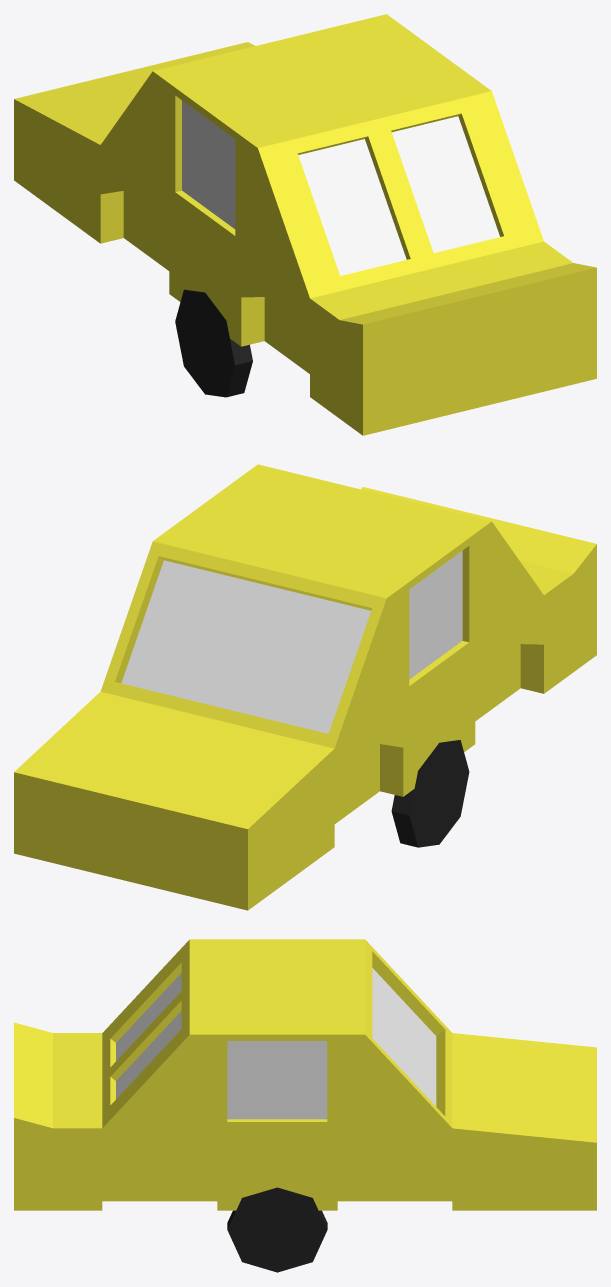
File: Cars.fbx
3 renders of one model, top to bottom at view 1: azimuth 30°, elevation 25°; view 2: azimuth 150°, elevation 25°; view 3: azimuth 270°, elevation 25°, orthographic. The views are drawn at different scales.
Visible parts, largest first — view 1: Car.002, Tire.002, Tire.001; view 2: Car.002, Tire.002, Tire.001; view 3: Car.002, Tire.001, Tire.002.
Boxes of the visible parts, x1,y1,x2,y2 form: Car.002: [14, 14, 596, 435]; Tire.002: [175, 289, 252, 397]; Tire.001: [190, 290, 234, 394]; Car.002: [14, 464, 596, 910]; Tire.002: [409, 740, 468, 847]; Tire.001: [391, 743, 469, 847]; Car.002: [14, 939, 596, 1210]; Tire.001: [227, 1187, 327, 1272]; Tire.002: [227, 1189, 327, 1270].
Bounding box in the file's own units: 2.47 × 6.37 × 2.86.
